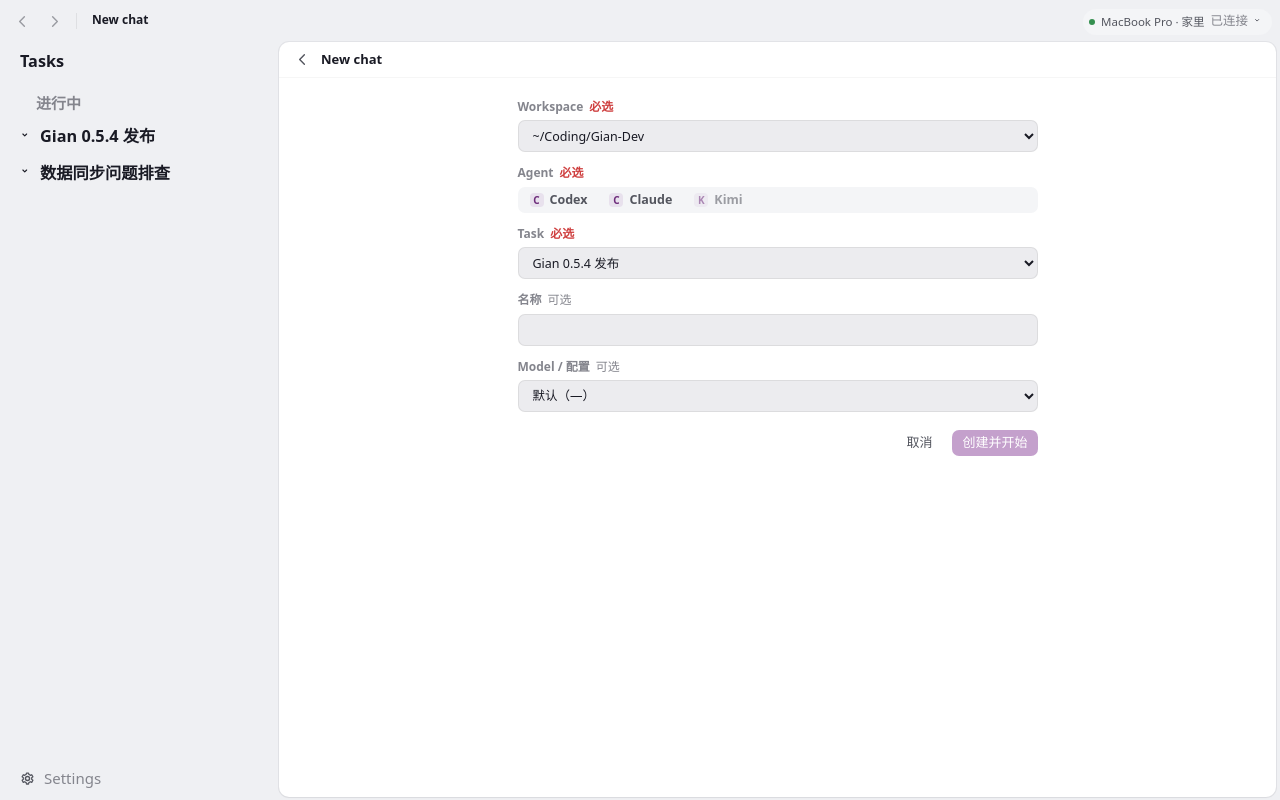
Scenario: new chat (B4) › accepts an Agent catalog without the optional model list without crashing
Click the radio button labelled "Codex" at (558, 200), box [520,189,598,211]
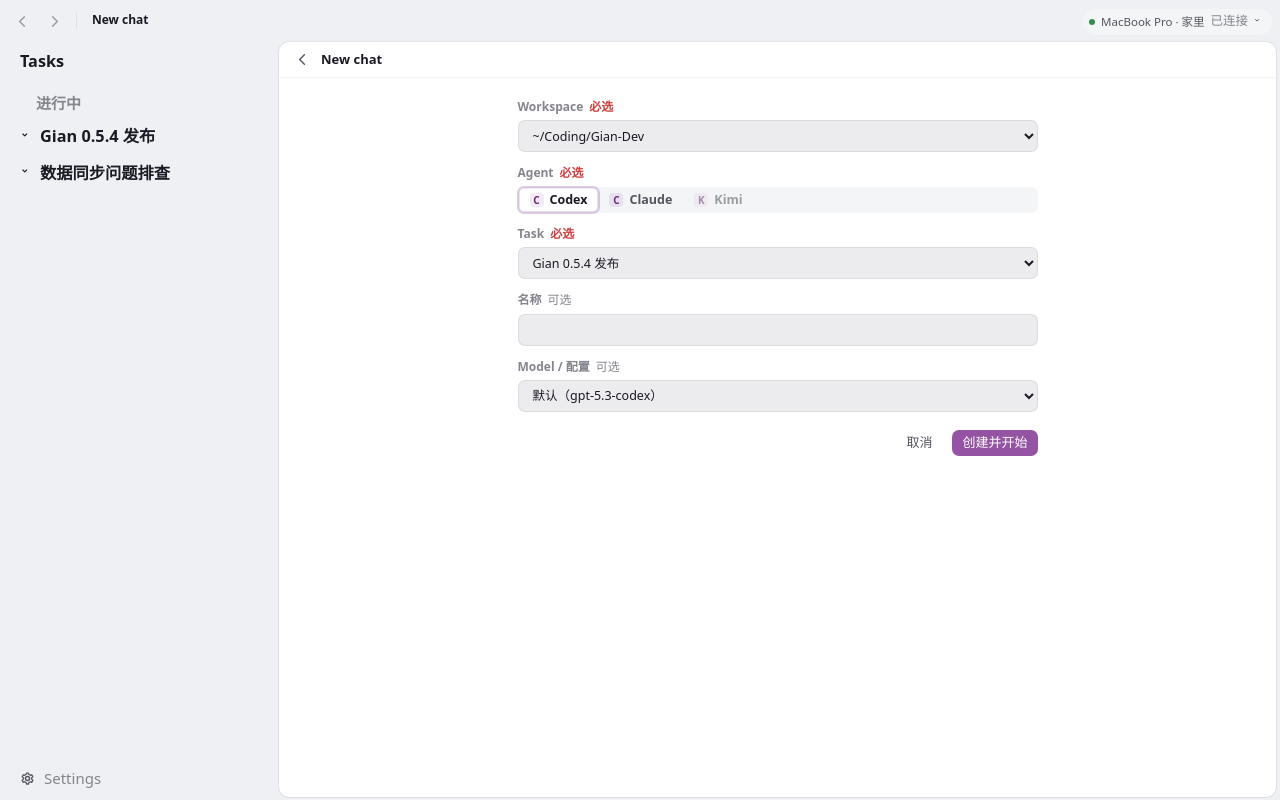
Check: the button "创建并开始" is enabled, box [952,430,1038,456]
